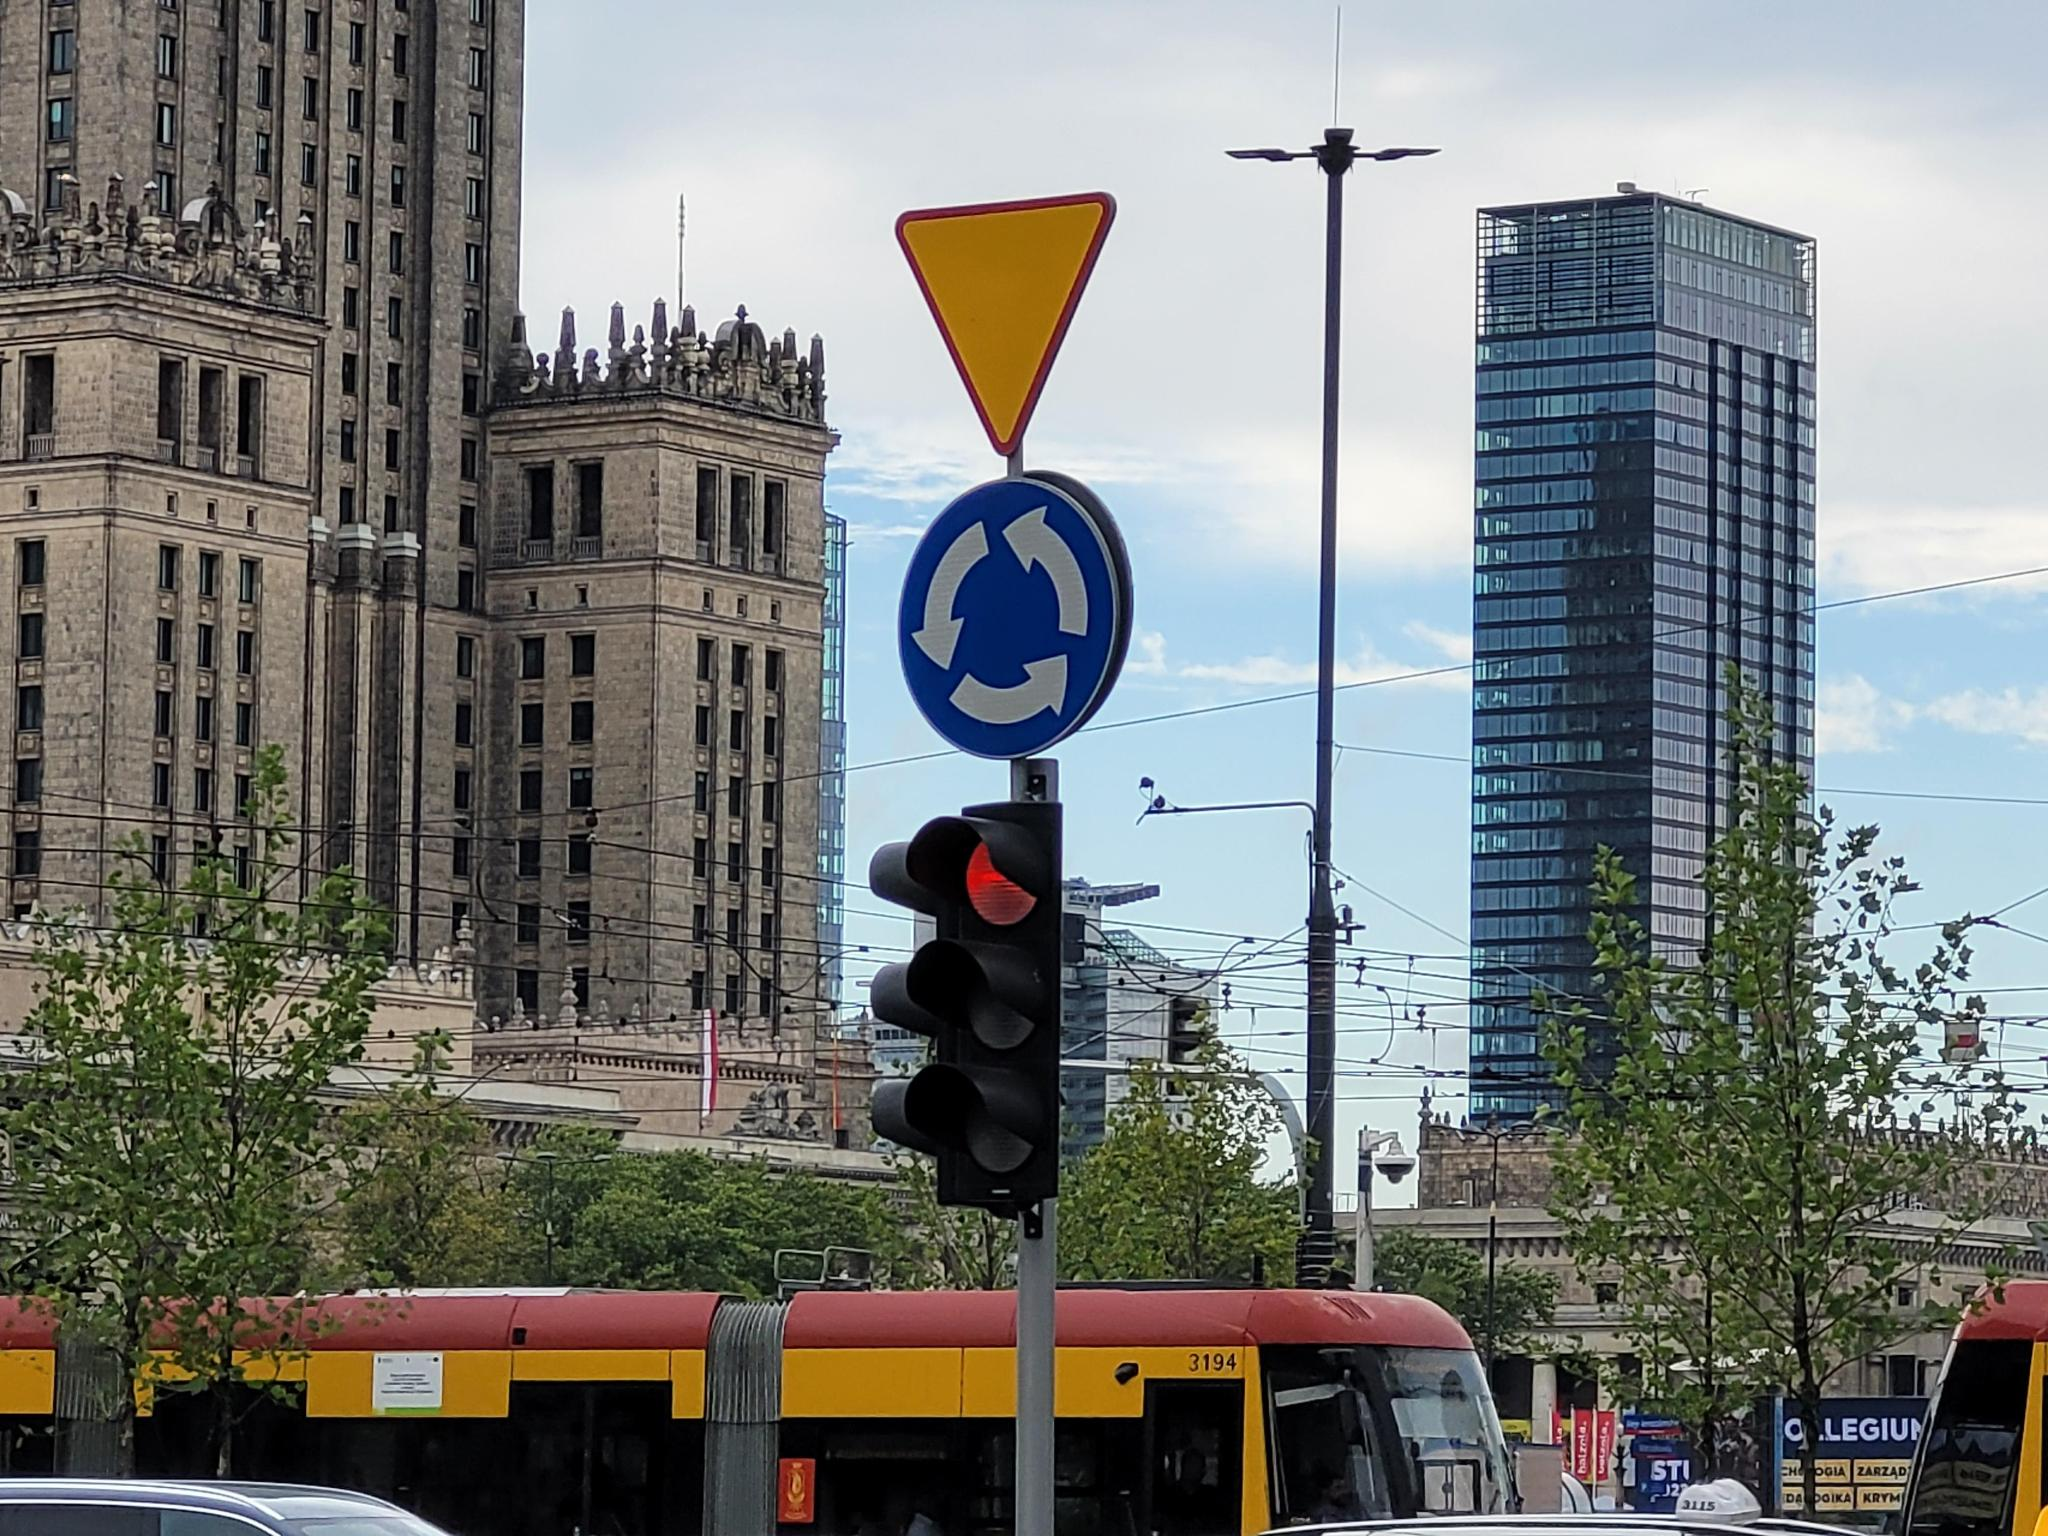mandatory: (896, 475, 1118, 761)
warning: (896, 192, 1120, 458)
